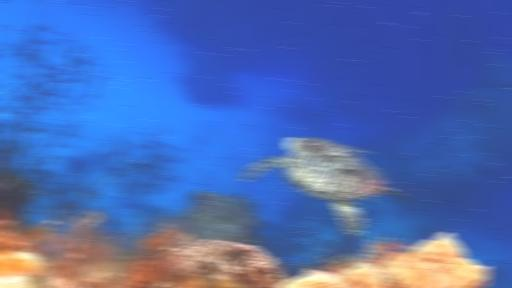Fish: (239, 137, 406, 237)
